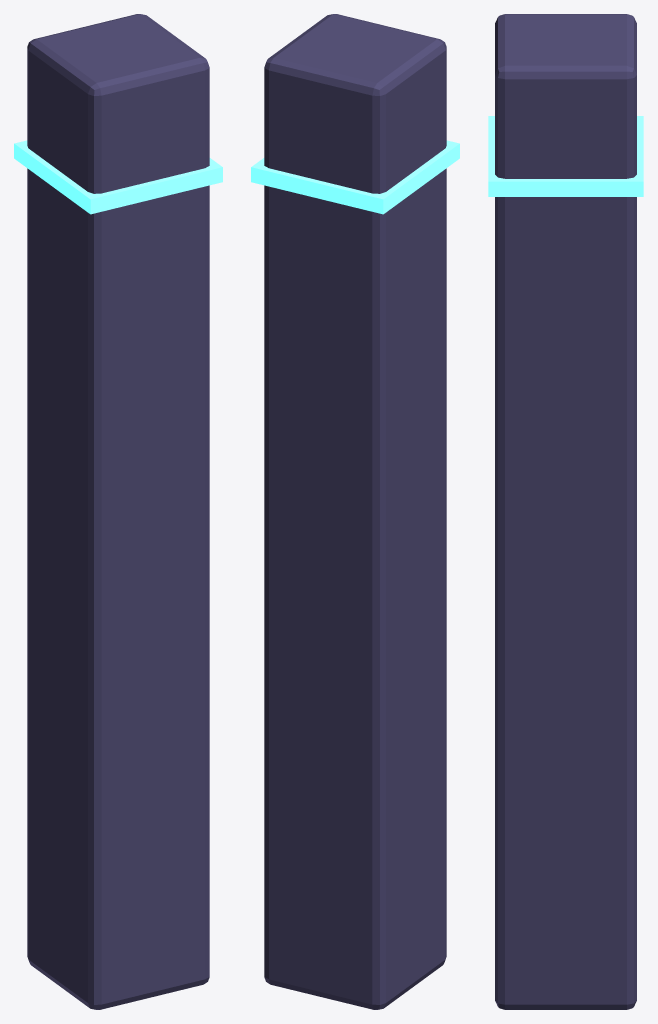
The model's file is wall_post.glb.
3 renders of one model, left to right at view 1: azimuth 30°, elevation 25°; view 2: azimuth 150°, elevation 25°; view 3: azimuth 270°, elevation 25°, orthographic.
Parts seen in each view (by area): view 1: wall_post; view 2: wall_post; view 3: wall_post.
Boxes of the visible parts, x1,y1,x2,y2 form: wall_post: [14, 14, 222, 1009]; wall_post: [251, 14, 459, 1009]; wall_post: [488, 14, 643, 1009].
Bounding box in the file's own units: 0.46 × 3.08 × 0.46.
